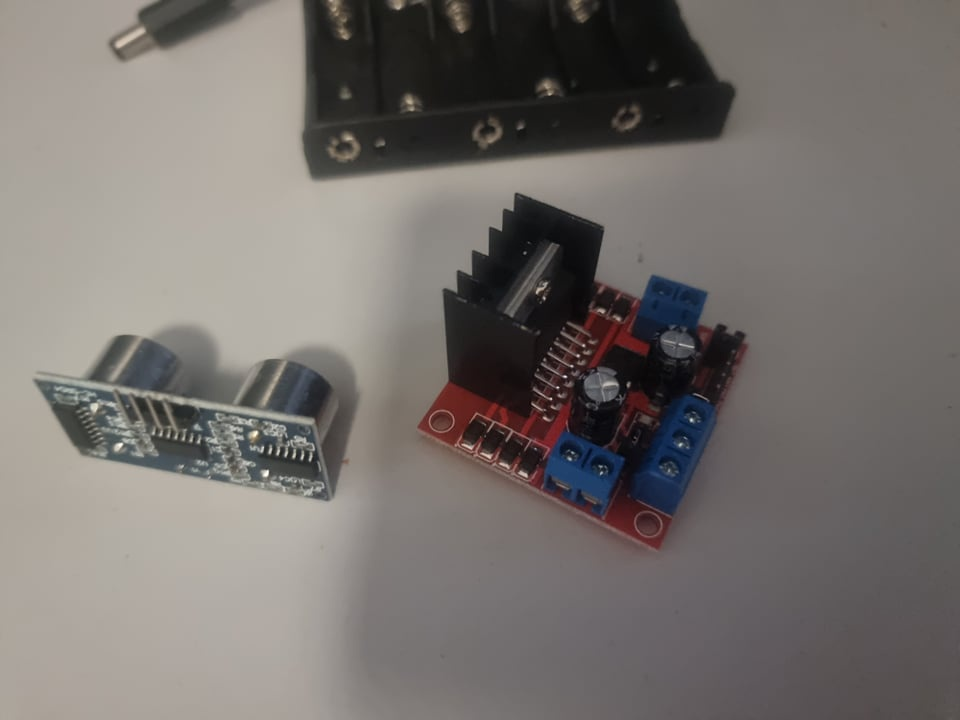BATTERY BOX: (295, 1, 734, 178)
MOTOR: (417, 192, 755, 554)
SENSOR: (32, 329, 341, 509)
